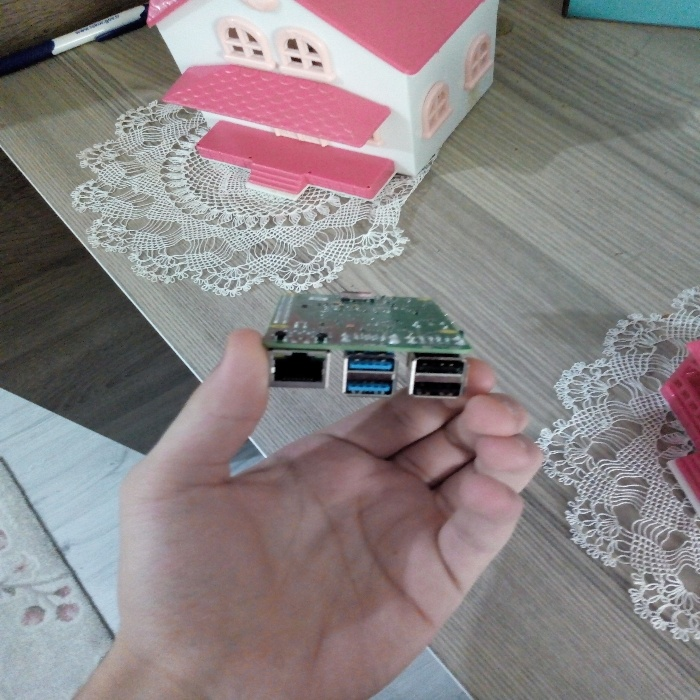raspberry: (242, 282, 476, 409)
